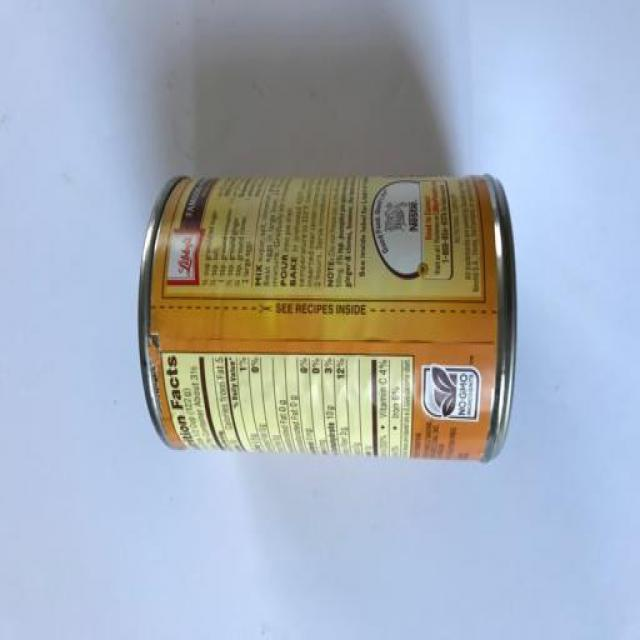metel: (122, 160, 536, 487)
